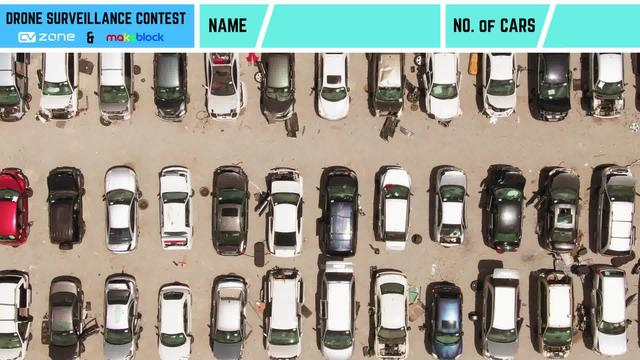car: (316, 261, 358, 360), (261, 269, 306, 360), (590, 266, 630, 360), (481, 269, 522, 360), (531, 269, 572, 360), (598, 166, 637, 259), (370, 270, 410, 360), (99, 274, 140, 360), (46, 274, 86, 360), (210, 273, 248, 360), (212, 164, 248, 255), (266, 167, 302, 258), (323, 167, 359, 258), (48, 167, 84, 251), (155, 281, 193, 360), (545, 168, 580, 253), (104, 165, 137, 254), (159, 164, 192, 253), (1, 270, 33, 360), (379, 165, 412, 252), (257, 53, 299, 121), (427, 281, 463, 360), (421, 52, 462, 121), (40, 52, 80, 122), (490, 169, 525, 249), (365, 52, 407, 118), (95, 52, 135, 121), (203, 53, 244, 120), (587, 52, 627, 119), (313, 52, 351, 122), (533, 53, 571, 121), (437, 165, 467, 248), (153, 53, 189, 121), (481, 52, 517, 119), (1, 166, 30, 246), (1, 53, 30, 123)
